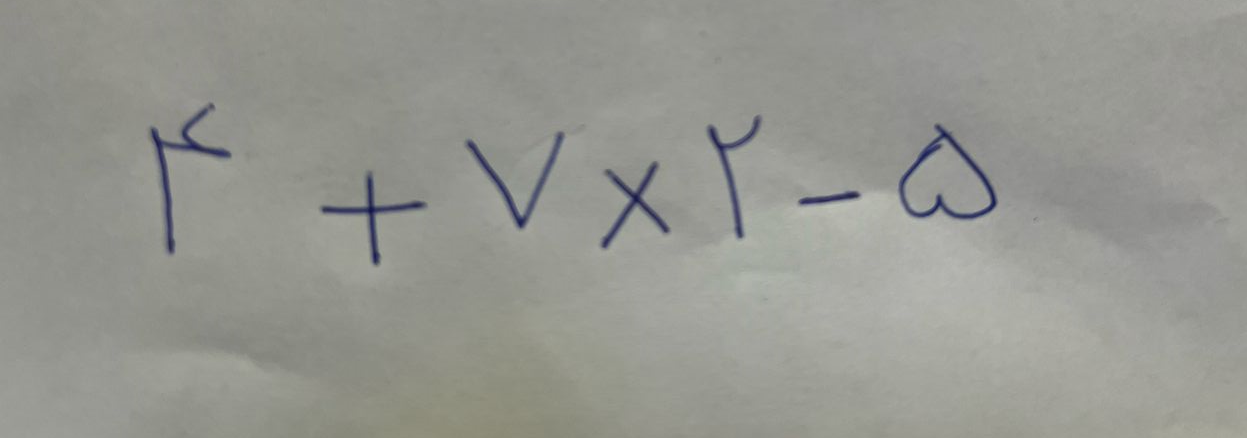character: (145, 97, 232, 254), (462, 126, 572, 234), (317, 167, 423, 263), (899, 116, 992, 220), (704, 121, 774, 239), (597, 161, 675, 252), (797, 191, 860, 204)
